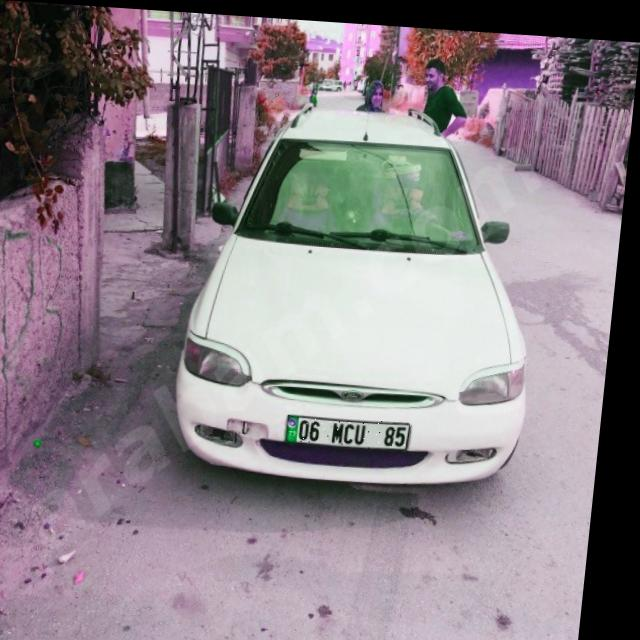license_plate: (293, 410, 419, 445)
